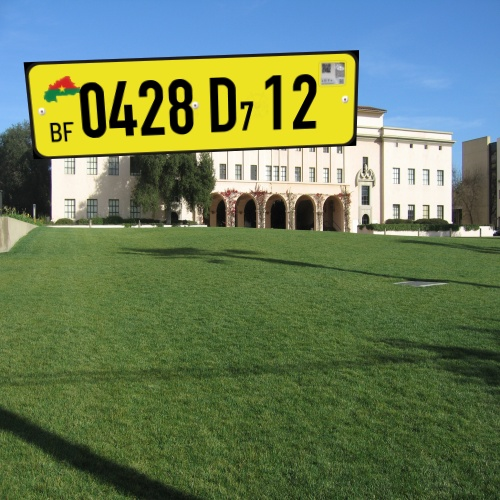plate: (14, 47, 371, 168)
